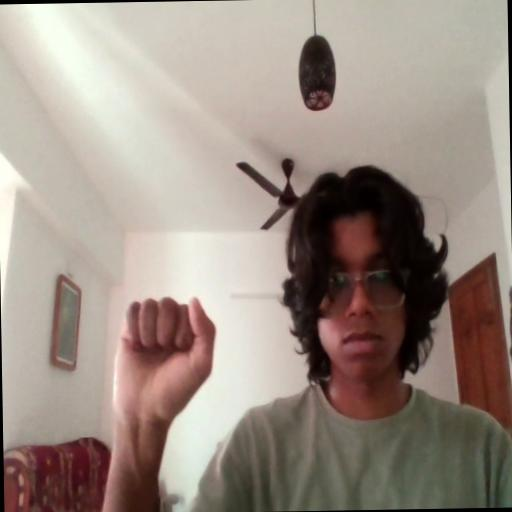Rock: (112, 293, 221, 422)
